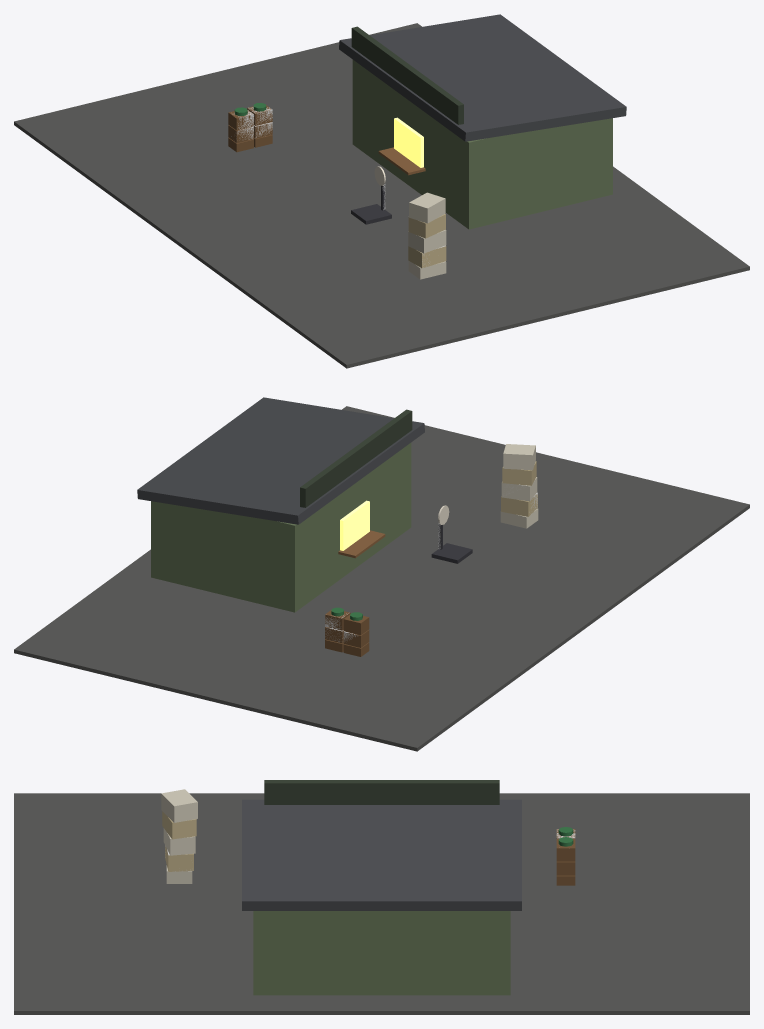
The model's file is scrap-depot.glb.
3 renders of one model, top to bottom at view 1: azimuth 30°, elevation 25°; view 2: azimuth 150°, elevation 25°; view 3: azimuth 270°, elevation 25°, orthographic. The views are drawn at different scales.
Visible parts, largest first — view 1: 06_#5a5a58_noshadow, 07_#6a7a5a, 08_#4c4e52, 11_#3c4638_noshadow, 02_#d8d2c0_r320, 00_#7a5a3a_r110, 03_#c8b890_r320, 09_#e8c070_noshadow, 04_#3a3a40_r320; view 2: 06_#5a5a58_noshadow, 07_#6a7a5a, 08_#4c4e52, 11_#3c4638_noshadow, 02_#d8d2c0_r320, 00_#7a5a3a_r110, 03_#c8b890_r320, 09_#e8c070_noshadow, 04_#3a3a40_r320; view 3: 06_#5a5a58_noshadow, 08_#4c4e52, 07_#6a7a5a, 11_#3c4638_noshadow, 02_#d8d2c0_r320, 03_#c8b890_r320, 00_#7a5a3a_r110.
Boxes of the visible parts, box(x1,y1,x2,y2) form: 06_#5a5a58_noshadow: box(14, 23, 749, 368); 07_#6a7a5a: box(352, 60, 612, 229); 08_#4c4e52: box(339, 14, 626, 141); 11_#3c4638_noshadow: box(351, 26, 463, 124); 02_#d8d2c0_r320: box(408, 192, 446, 279); 00_#7a5a3a_r110: box(228, 105, 272, 152); 03_#c8b890_r320: box(408, 214, 446, 268); 09_#e8c070_noshadow: box(394, 117, 423, 167); 04_#3a3a40_r320: box(351, 185, 391, 224); 06_#5a5a58_noshadow: box(14, 406, 749, 751); 07_#6a7a5a: box(151, 443, 411, 612); 08_#4c4e52: box(137, 397, 424, 524); 11_#3c4638_noshadow: box(300, 409, 412, 507); 02_#d8d2c0_r320: box(500, 444, 538, 528); 00_#7a5a3a_r110: box(325, 610, 369, 656); 03_#c8b890_r320: box(501, 461, 537, 516); 09_#e8c070_noshadow: box(340, 500, 369, 550); 04_#3a3a40_r320: box(431, 524, 472, 563); 06_#5a5a58_noshadow: box(14, 793, 749, 1014); 08_#4c4e52: box(242, 799, 521, 910); 07_#6a7a5a: box(253, 911, 510, 995); 11_#3c4638_noshadow: box(264, 780, 499, 804); 02_#d8d2c0_r320: box(161, 789, 197, 883); 03_#c8b890_r320: box(162, 811, 196, 871); 00_#7a5a3a_r110: box(556, 829, 575, 885).
Size of the model in its own units: 14 by 4.15 by 20.
